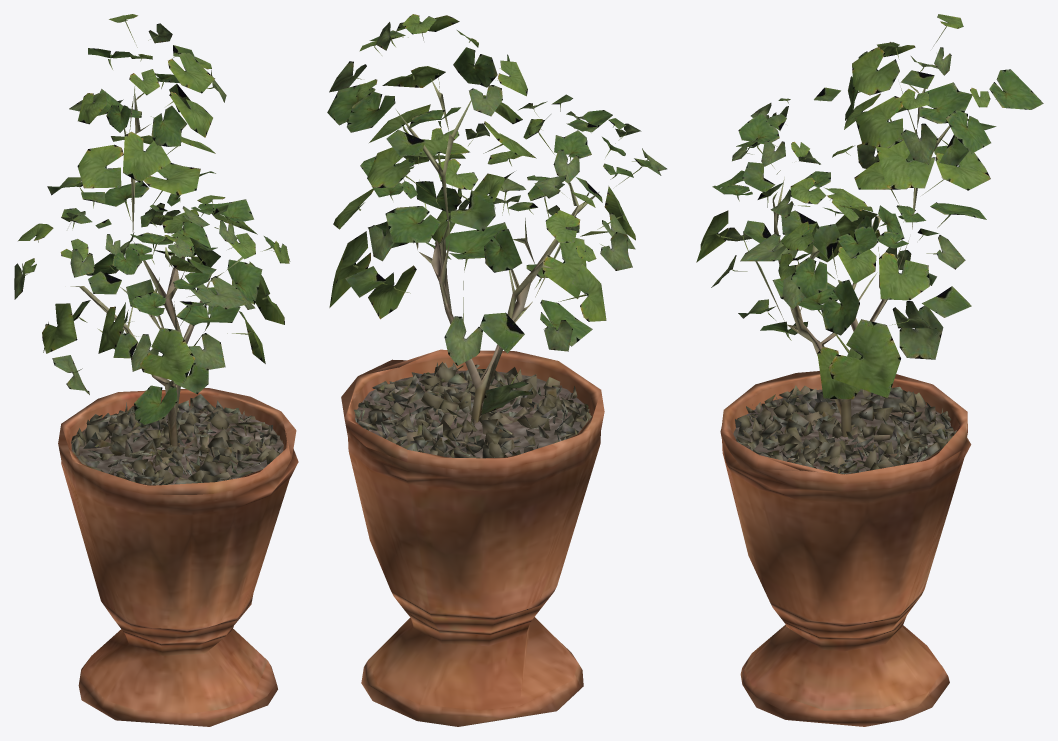
File: plant-potted-01.lite.c3cbf672.glb
The picture shows the model from 3 angles, left to right: view 1: azimuth 30°, elevation 25°; view 2: azimuth 150°, elevation 25°; view 3: azimuth 270°, elevation 25°; orthographic projection. The views are drawn at different scales.
Parts seen in each view (by area): view 1: model; view 2: model; view 3: model.
Part boxes in pixels (x1=…): model: x1=14, y1=14, x2=298, y2=726; model: x1=327, y1=14, x2=666, y2=726; model: x1=696, y1=14, x2=1043, y2=726.
Size of the model in its own units: 0.5775 by 1.34 by 0.6336.
Materials: 2 (2 with a texture image).
